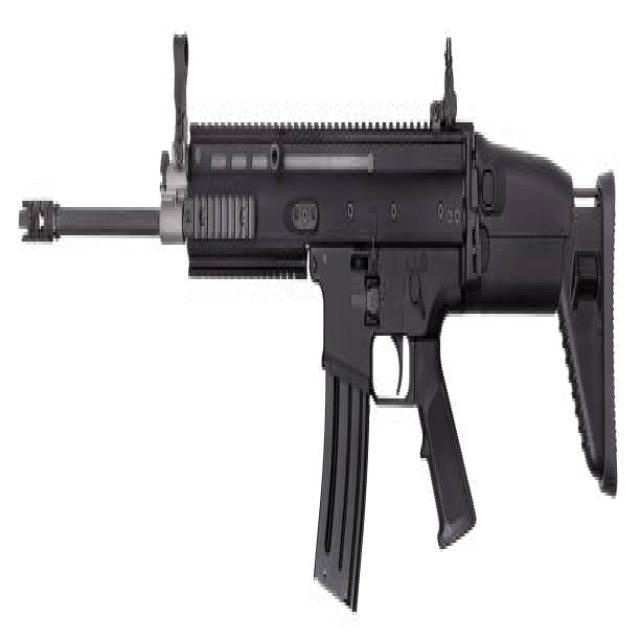rifle: (19, 5, 629, 623)
